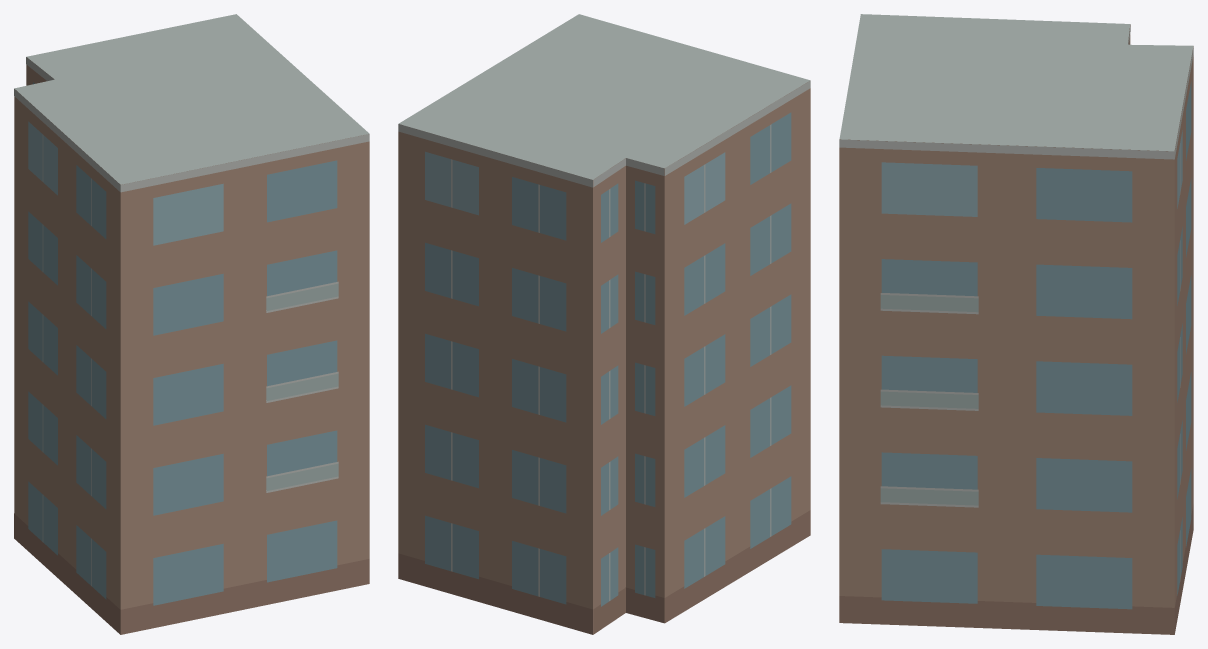
Rendered from survey-upis-33010284.glb.
The picture shows the model from 3 angles, left to right: view 1: azimuth 30°, elevation 25°; view 2: azimuth 150°, elevation 25°; view 3: azimuth 270°, elevation 25°; orthographic projection. The views are drawn at different scales.
Parts seen in each view (by area): view 1: survey-upis-33010284.tmp; view 2: survey-upis-33010284.tmp; view 3: survey-upis-33010284.tmp.
Boxes of the visible parts, x1,y1,x2,y2 form: survey-upis-33010284.tmp: [14, 14, 369, 634]; survey-upis-33010284.tmp: [398, 14, 810, 634]; survey-upis-33010284.tmp: [839, 14, 1193, 634].
Size of the model in its own units: 8.78 by 14.4 by 9.57.
